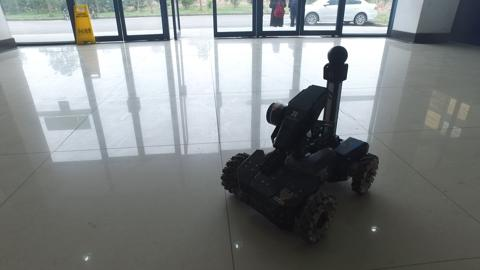car: (287, 1, 381, 26)
chariot: (218, 44, 380, 245)
